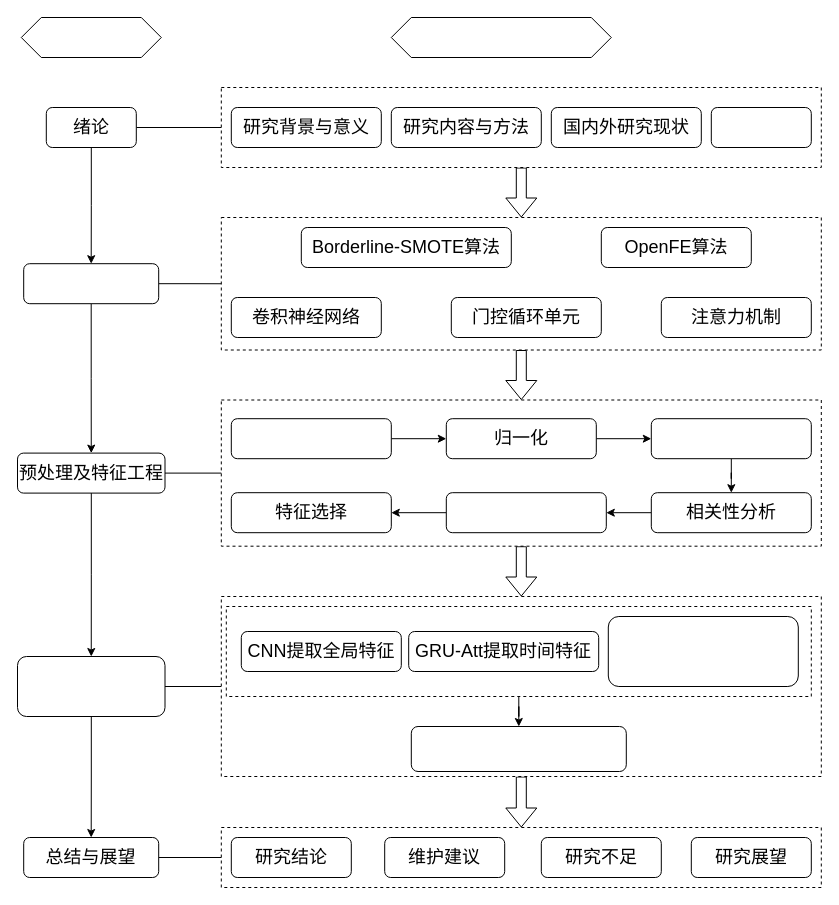
Some shapes in this 839 by 905 pixel diagram are drawn without their labels. Each missing label, with the box of its shape:
Borderline-SMOTE均衡化处理: (650, 418, 811, 459)
OpenFE特征生成: (445, 492, 606, 533)
创新点: (710, 106, 811, 148)
基本理论与方法: (23, 263, 159, 304)
实验结果及常见算法对比: (410, 726, 626, 772)
样本选取: (230, 418, 391, 459)
研究内容与研究方法: (390, 16, 611, 58)
研究目标: (20, 16, 161, 58)
评价指标：精确率、召回率、准确率、F1值等: (607, 616, 798, 686)
风机叶片结冰诊断模型: (16, 656, 165, 716)
